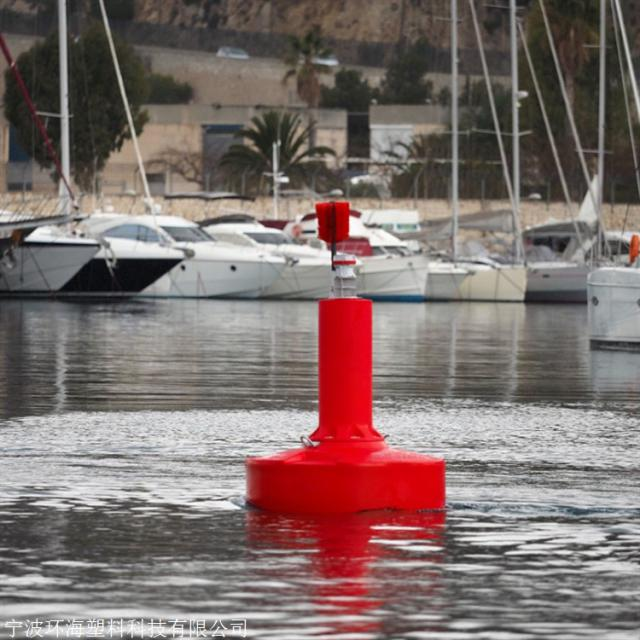buoy: (246, 190, 451, 513)
